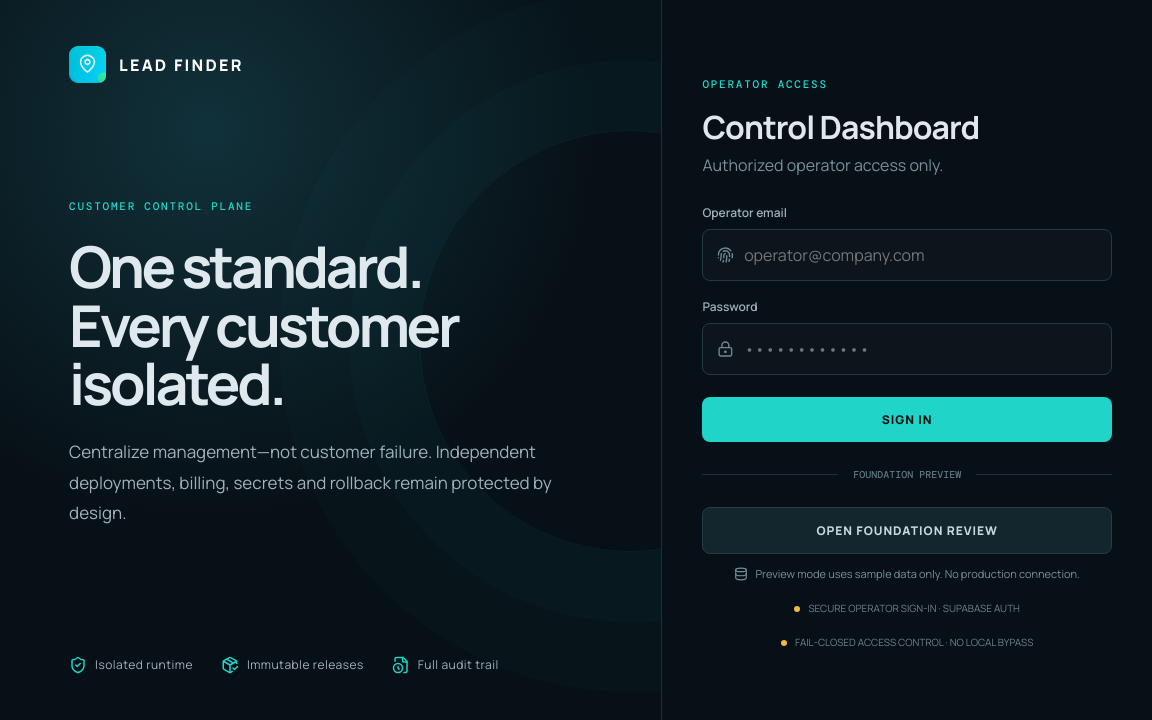
Scenario: D1 auth remediation — production UI auth flow › 7. missing operator profile fails closed
The width and height of the screenshot is (1152, 720).
Type "ghost@leadfinder.business" into the field labelled "Operator email" at [921, 255], box [744, 230, 1097, 280]
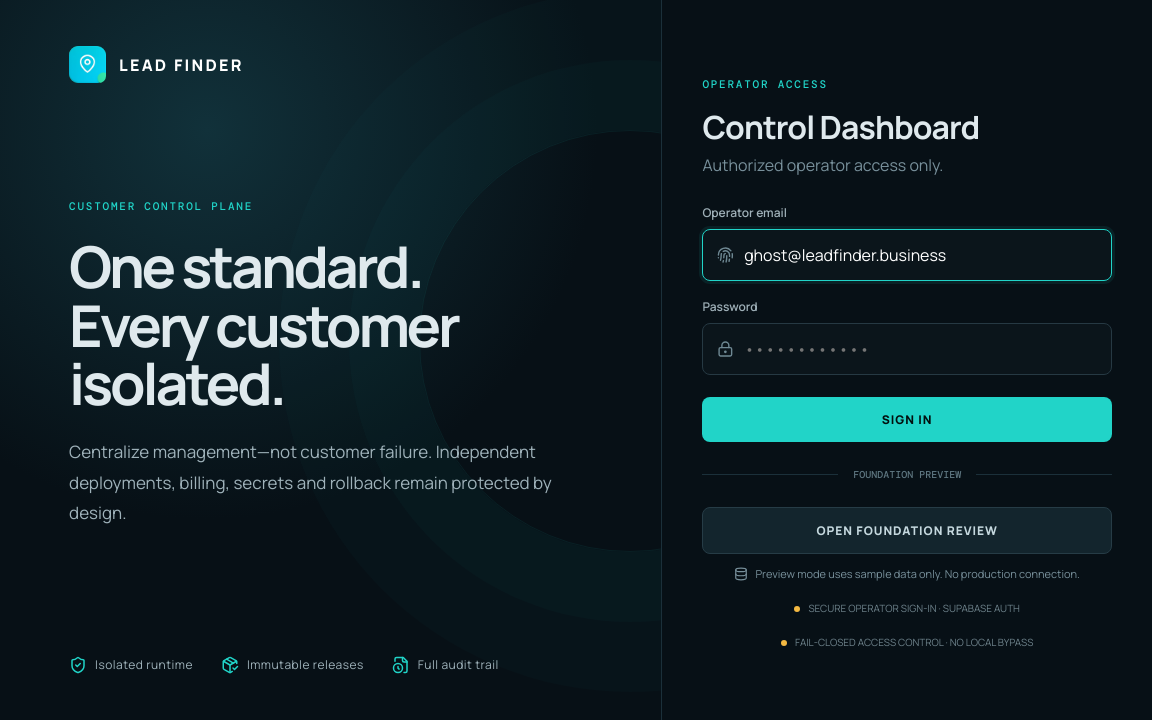
Type "whatever" into the password field labelled "Password" at [921, 349], box [744, 324, 1097, 374]
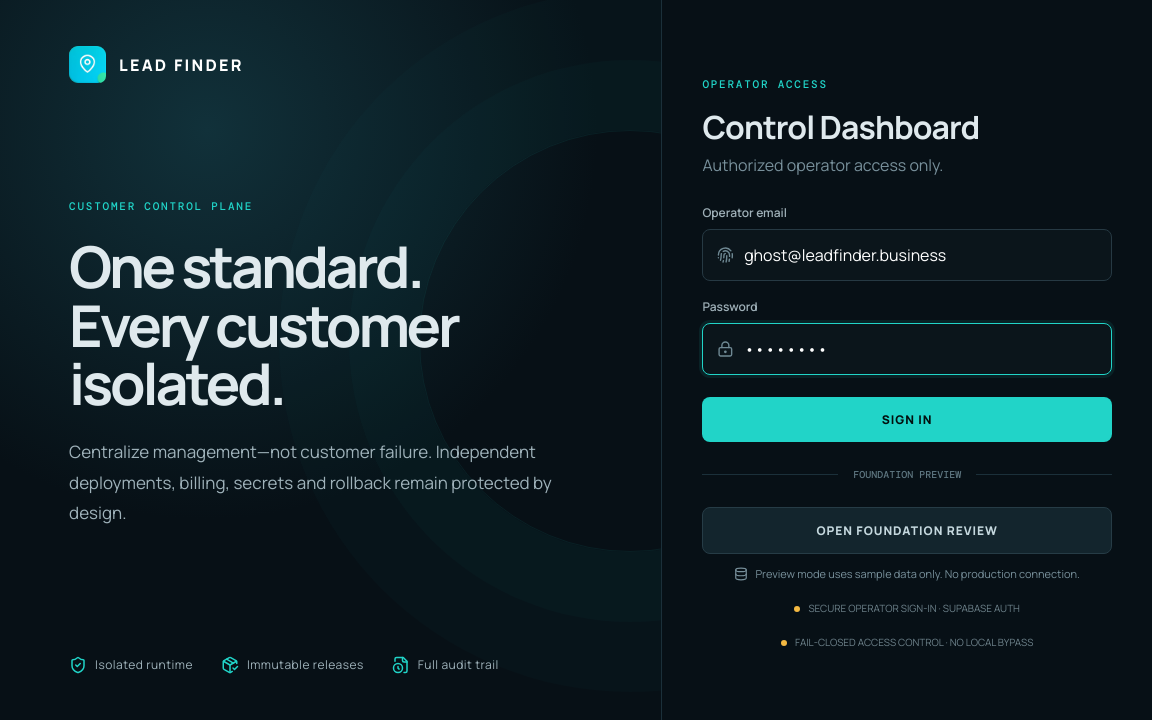
Click the button "SIGN IN" at [907, 420], box [702, 397, 1112, 442]
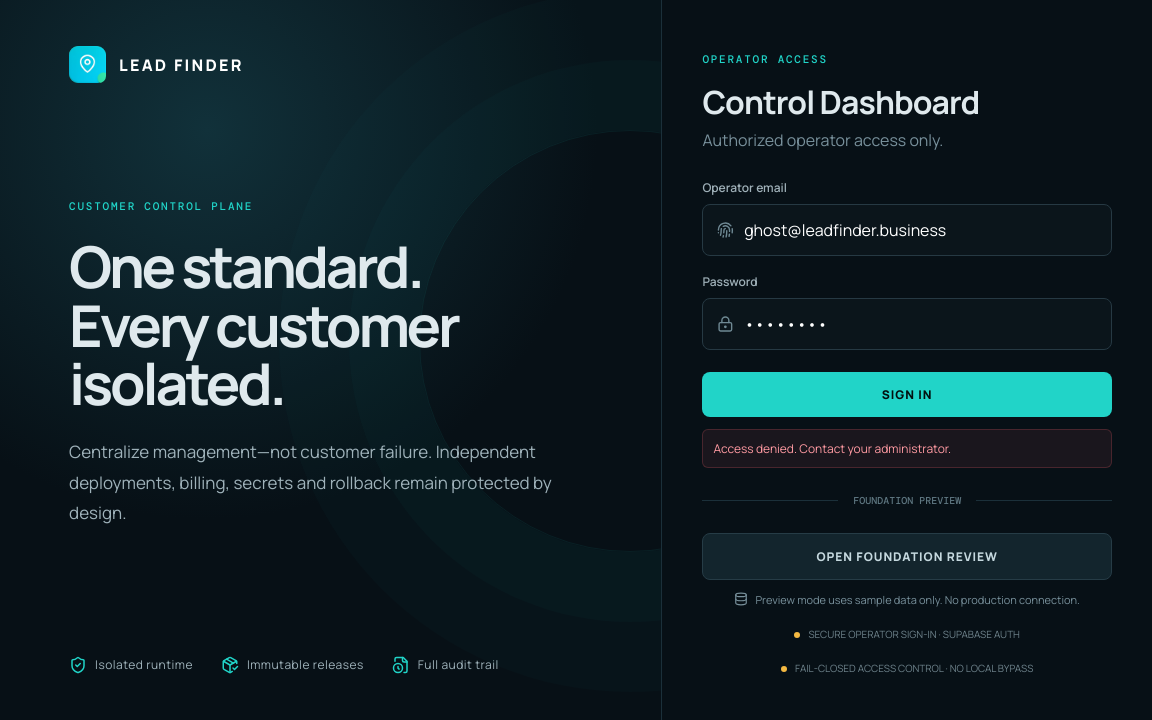
Expected: the text "Access denied. Contact your administrator." is shown, [702, 428, 1112, 468]
